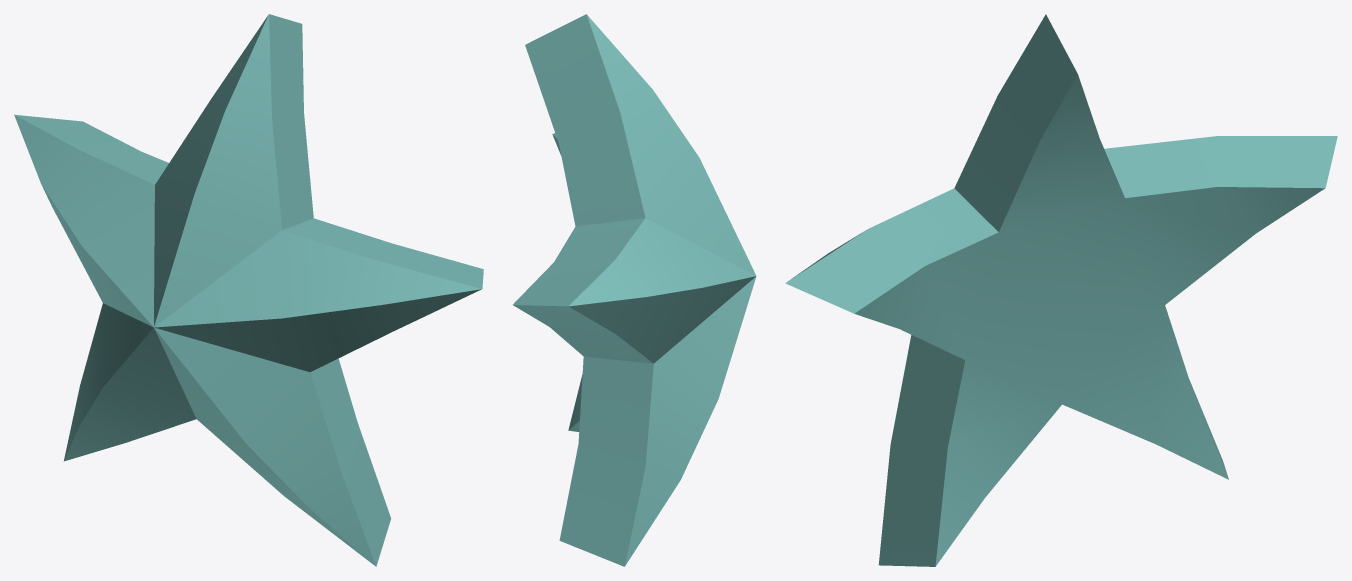
Rendered from BL5_Frame_Star.001 2.glb.
3 views of the same model, side by side, from view 1: azimuth 30°, elevation 25°; view 2: azimuth 150°, elevation 25°; view 3: azimuth 270°, elevation 25° (orthographic). The views are drawn at different scales.
Visible parts, largest first — view 1: BL5_Frame_Star.001; view 2: BL5_Frame_Star.001; view 3: BL5_Frame_Star.001.
Boxes of the visible parts, x1=… form: BL5_Frame_Star.001: x1=14, y1=14, x2=483, y2=566; BL5_Frame_Star.001: x1=513, y1=14, x2=756, y2=566; BL5_Frame_Star.001: x1=785, y1=14, x2=1337, y2=566.
Size of the model in its own units: 0.2611 by 0.4505 by 0.4207.
